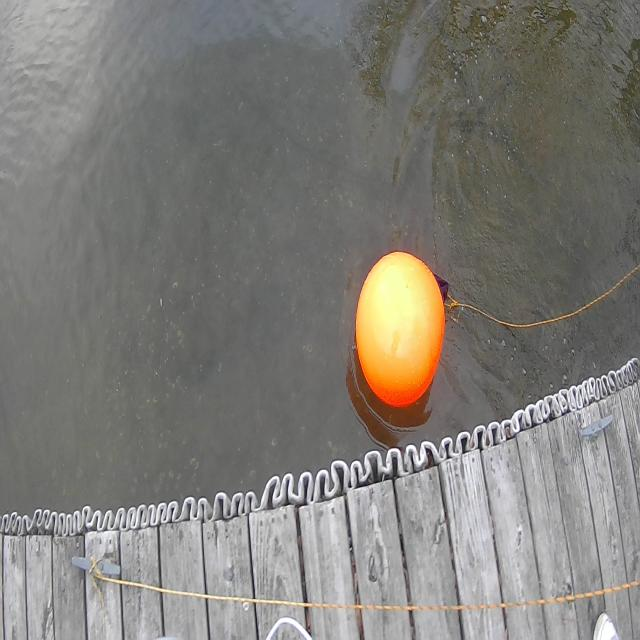Buoy: (352, 247, 452, 412)
